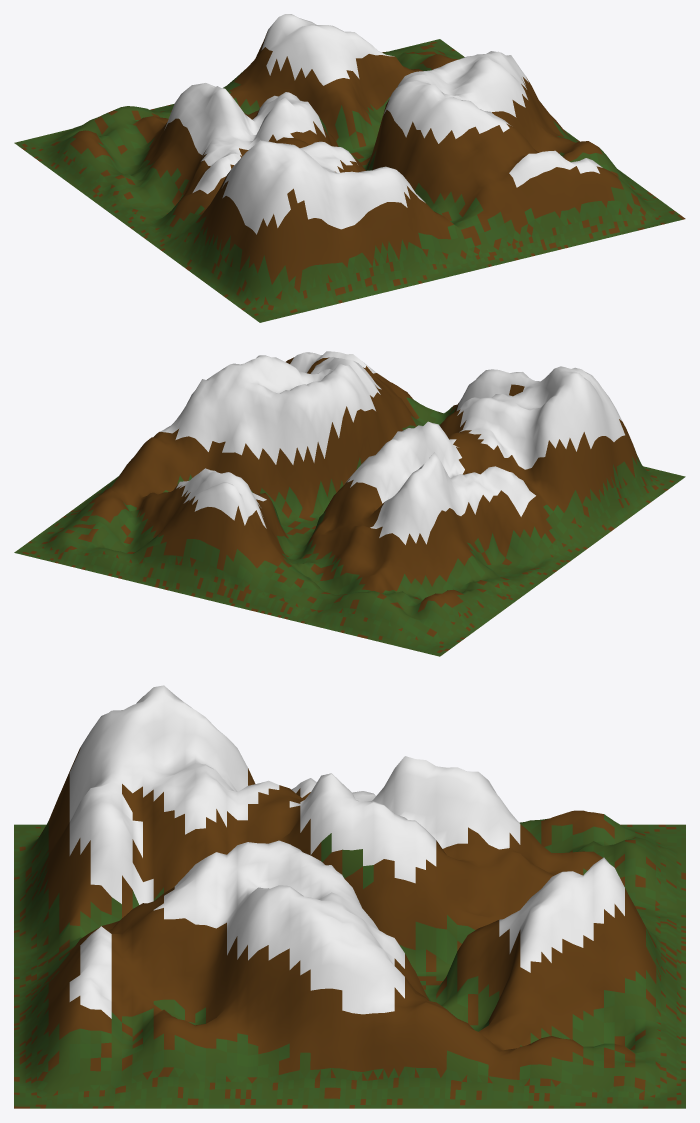
File: S0.mountain.7.glb
3 renders of one model, top to bottom at view 1: azimuth 30°, elevation 25°; view 2: azimuth 150°, elevation 25°; view 3: azimuth 270°, elevation 25°, orthographic. The views are drawn at different scales.
Parts seen in each view (by area): view 1: Landscape.00a; view 2: Landscape.00a; view 3: Landscape.00a.
Boxes of the visible parts, x1,y1,x2,y2 form: Landscape.00a: (14,14,685,322); Landscape.00a: (14,351,685,656); Landscape.00a: (14,685,685,1108).
Bounding box in the file's own units: 303 × 87.58 × 303.
